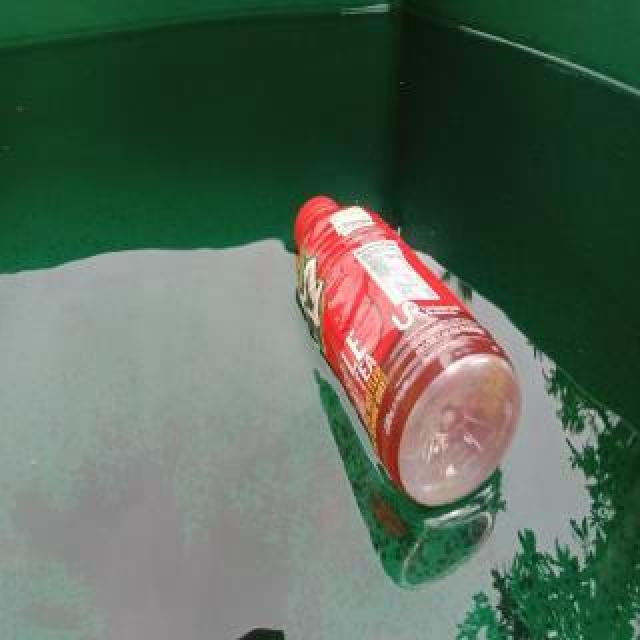bottle: (289, 187, 527, 511)
